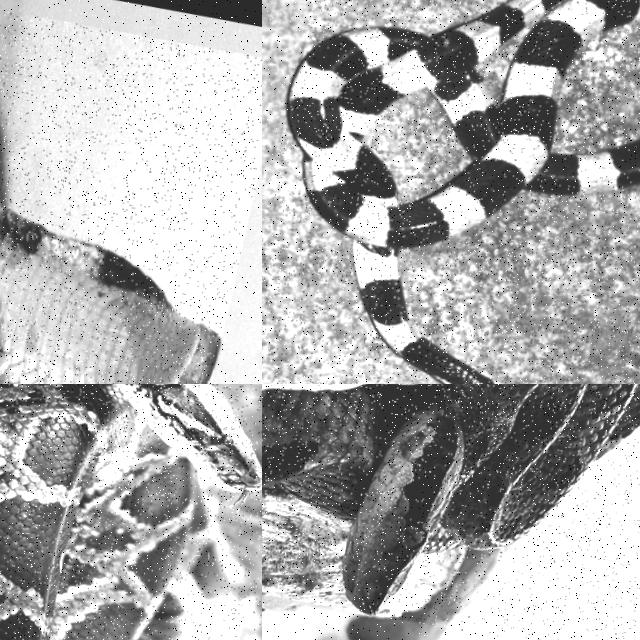Bungarus fasciatus: (288, 0, 639, 383)
Calloselasma rhodostoma: (262, 384, 639, 614)
Ophiophagus hannah: (0, 156, 219, 383)
Python bivittatus: (0, 384, 261, 639)
